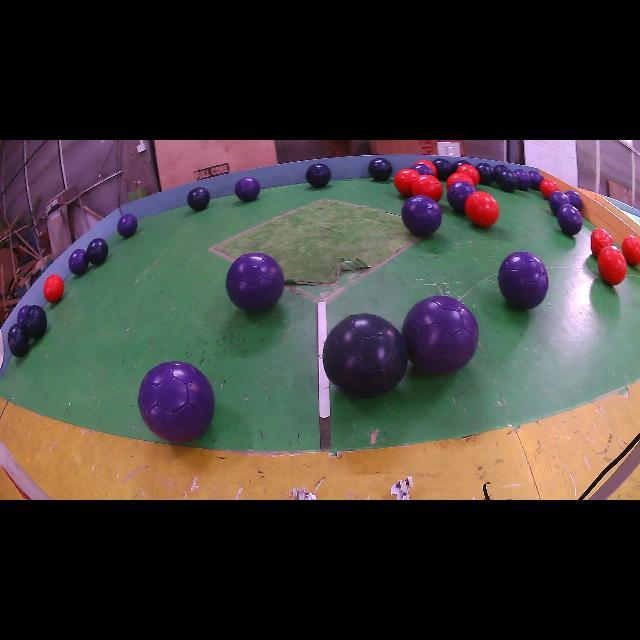B: (322, 314, 408, 398), (25, 305, 46, 339), (8, 324, 29, 358), (306, 164, 331, 188), (86, 239, 109, 265), (369, 158, 392, 181), (496, 170, 519, 192), (188, 188, 210, 211), (434, 159, 454, 181), (476, 162, 495, 185), (452, 160, 469, 172), (494, 165, 509, 178)
P: (138, 361, 215, 444), (402, 296, 479, 374), (226, 252, 285, 312), (498, 251, 549, 309), (401, 195, 441, 236), (448, 181, 476, 214), (556, 205, 582, 235), (235, 178, 260, 201), (549, 191, 571, 215), (69, 249, 89, 275), (118, 214, 138, 238), (514, 169, 531, 191), (565, 190, 582, 210), (529, 170, 544, 190), (411, 164, 435, 176), (17, 306, 30, 323)
R: (465, 191, 500, 226), (598, 246, 628, 285), (411, 175, 442, 201), (394, 169, 420, 196), (590, 229, 614, 258), (622, 235, 640, 266), (44, 275, 64, 302), (446, 172, 475, 189), (456, 165, 480, 185), (540, 179, 559, 199), (415, 160, 438, 176)
